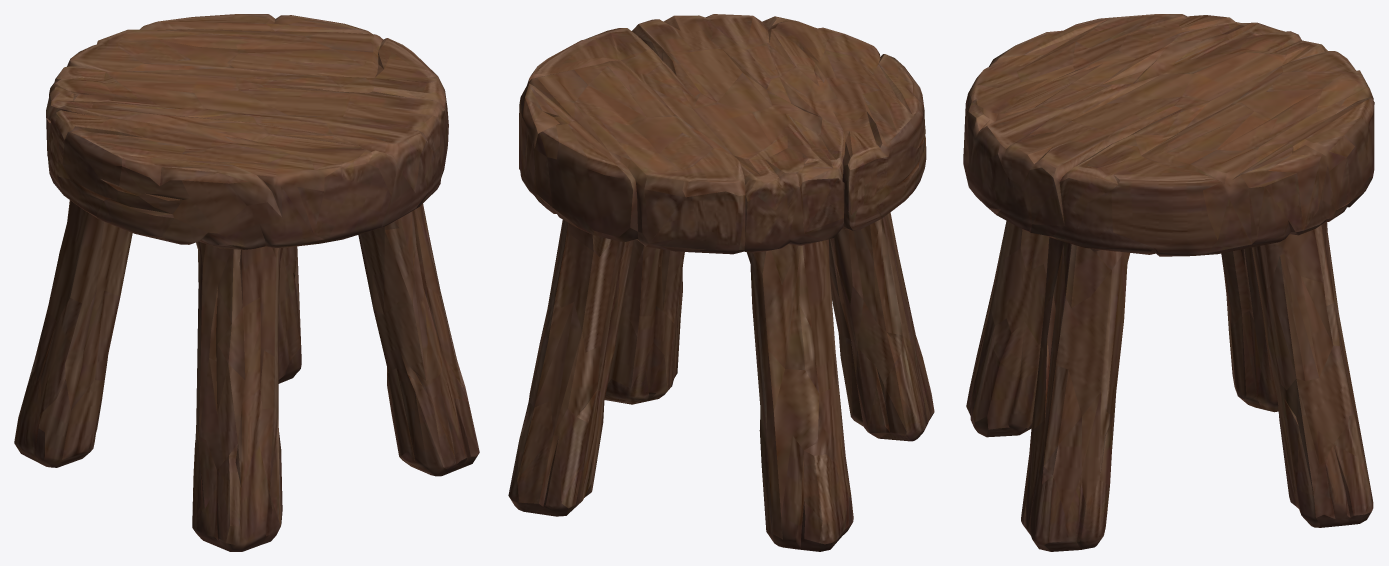
The model's file is stool_up_3d.glb.
3 views of the same model, side by side, from view 1: azimuth 30°, elevation 25°; view 2: azimuth 150°, elevation 25°; view 3: azimuth 270°, elevation 25° (orthographic). The views are drawn at different scales.
Parts seen in each view (by area): view 1: Mesh_0; view 2: Mesh_0; view 3: Mesh_0.
Boxes of the visible parts, bbox=[...] form: Mesh_0: bbox=[14, 14, 479, 551]; Mesh_0: bbox=[508, 14, 934, 551]; Mesh_0: bbox=[963, 14, 1374, 551].
Bounding box in the file's own units: 0.5579 × 0.5625 × 0.5569.
Materials: 1 (1 with a texture image).
